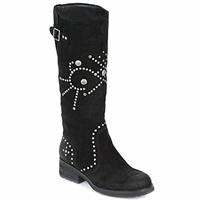shoe: (50, 2, 155, 198)
